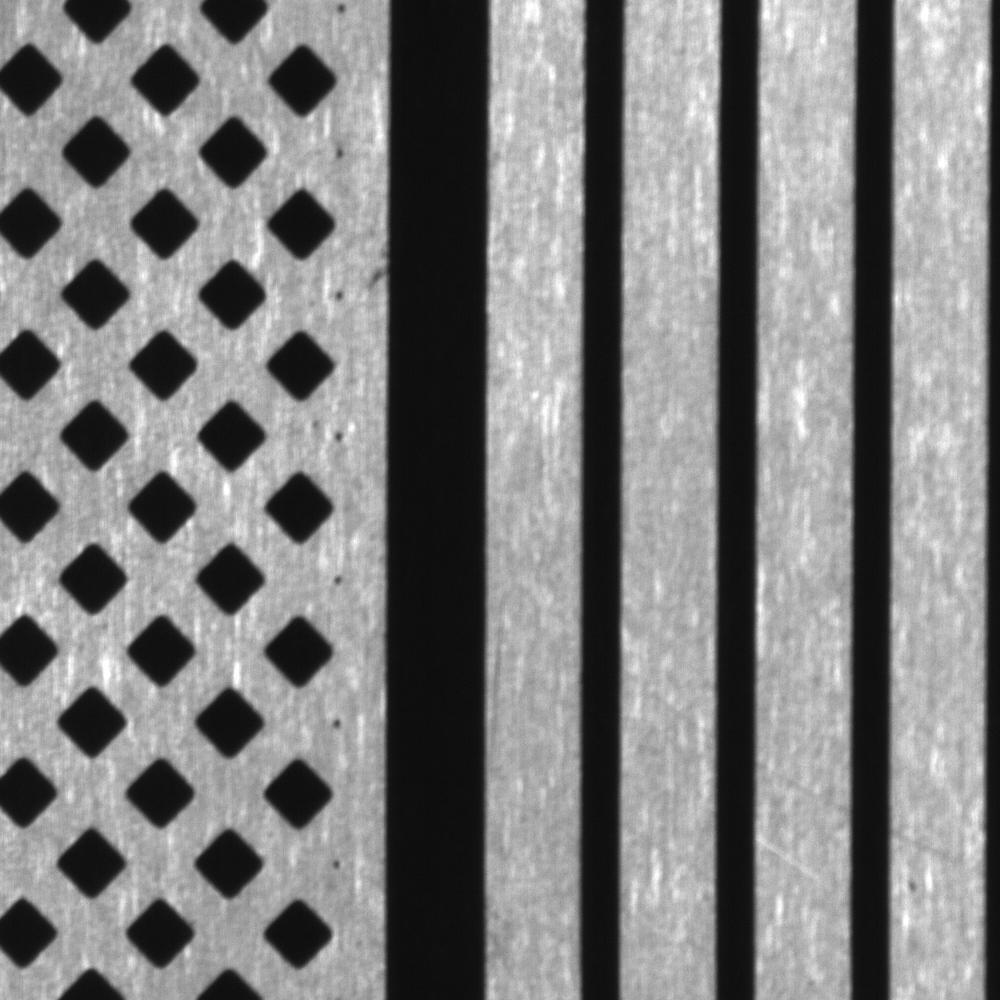Scar: (618, 653, 712, 745), (620, 812, 711, 889), (753, 751, 853, 817), (893, 814, 984, 880), (758, 829, 846, 897)
